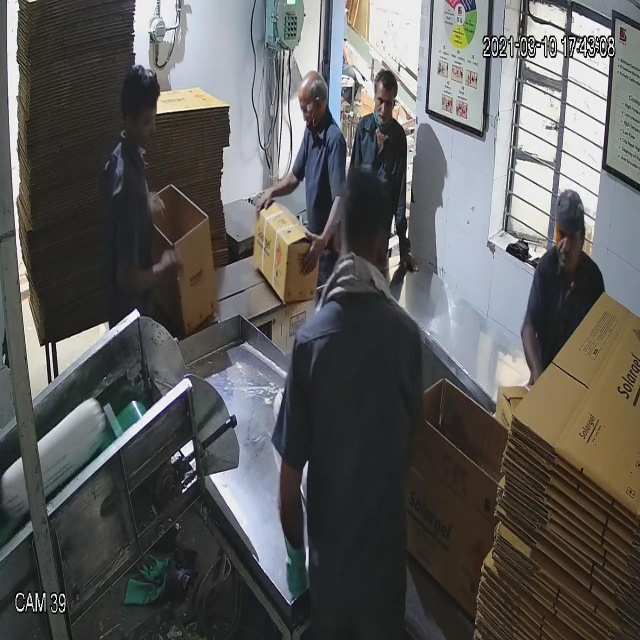Guantes: (268, 437, 318, 619)
Sin_guantes: (512, 300, 553, 392), (113, 248, 192, 292), (302, 204, 346, 276), (251, 162, 306, 216), (135, 181, 174, 238)
